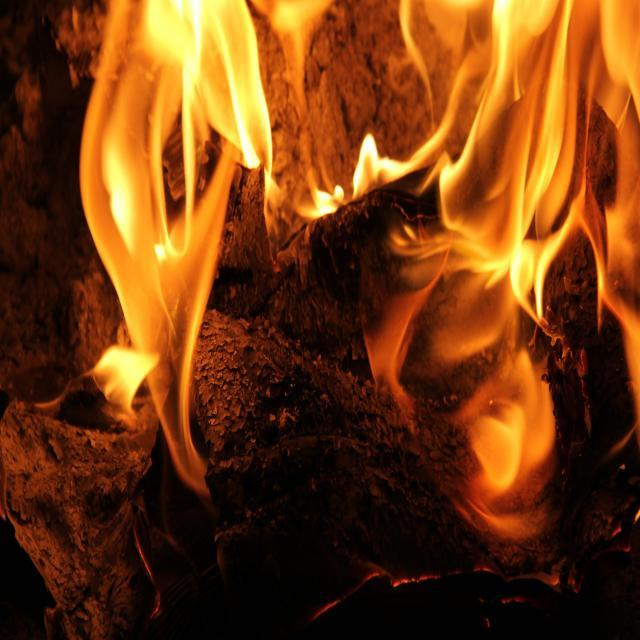Fire: (80, 0, 640, 497)
